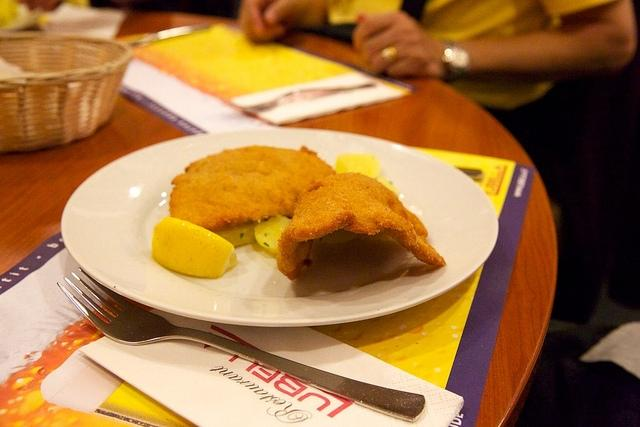lemon: (150, 217, 240, 278)
